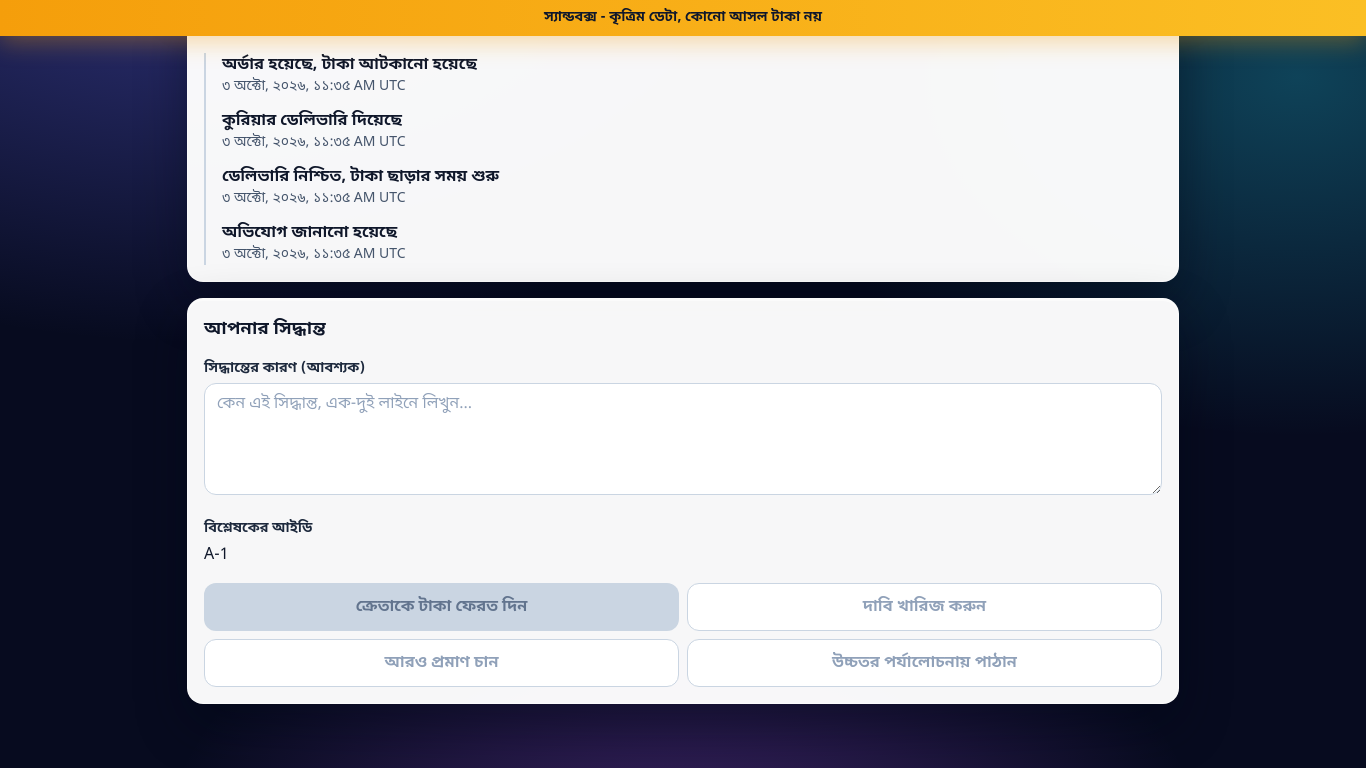
Test case: decisions and the score update › can be cancelled at the confirmation step without changing anything
The image size is (1366, 768).
(page scrolled)
Type "ঠিক আছে" into the text box labelled "সিদ্ধান্তের কারণ (আবশ্যক)".
click(683, 439); type("ঠিক আছে")  # box [204,383,1162,495]
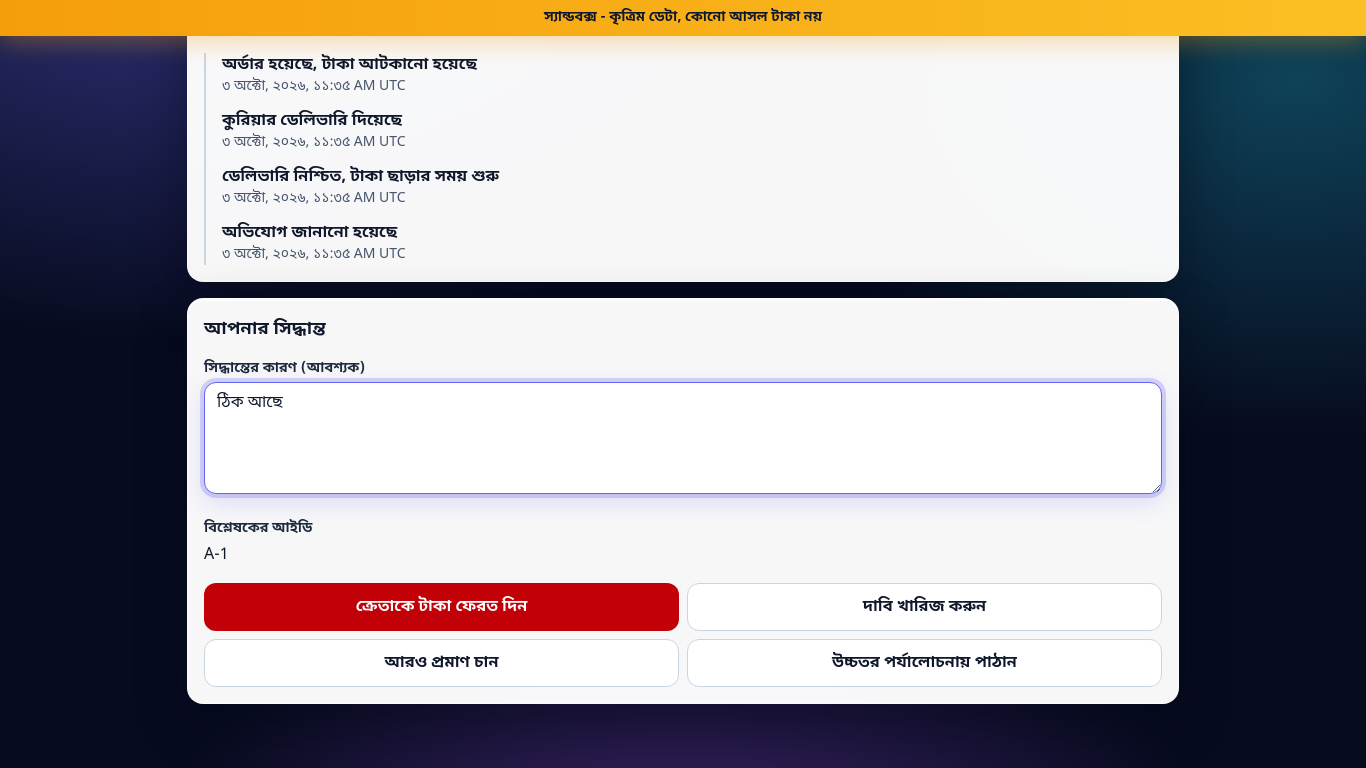
Click the button "ক্রেতাকে টাকা ফেরত দিন".
click(442, 607)  # box [204,583,679,631]
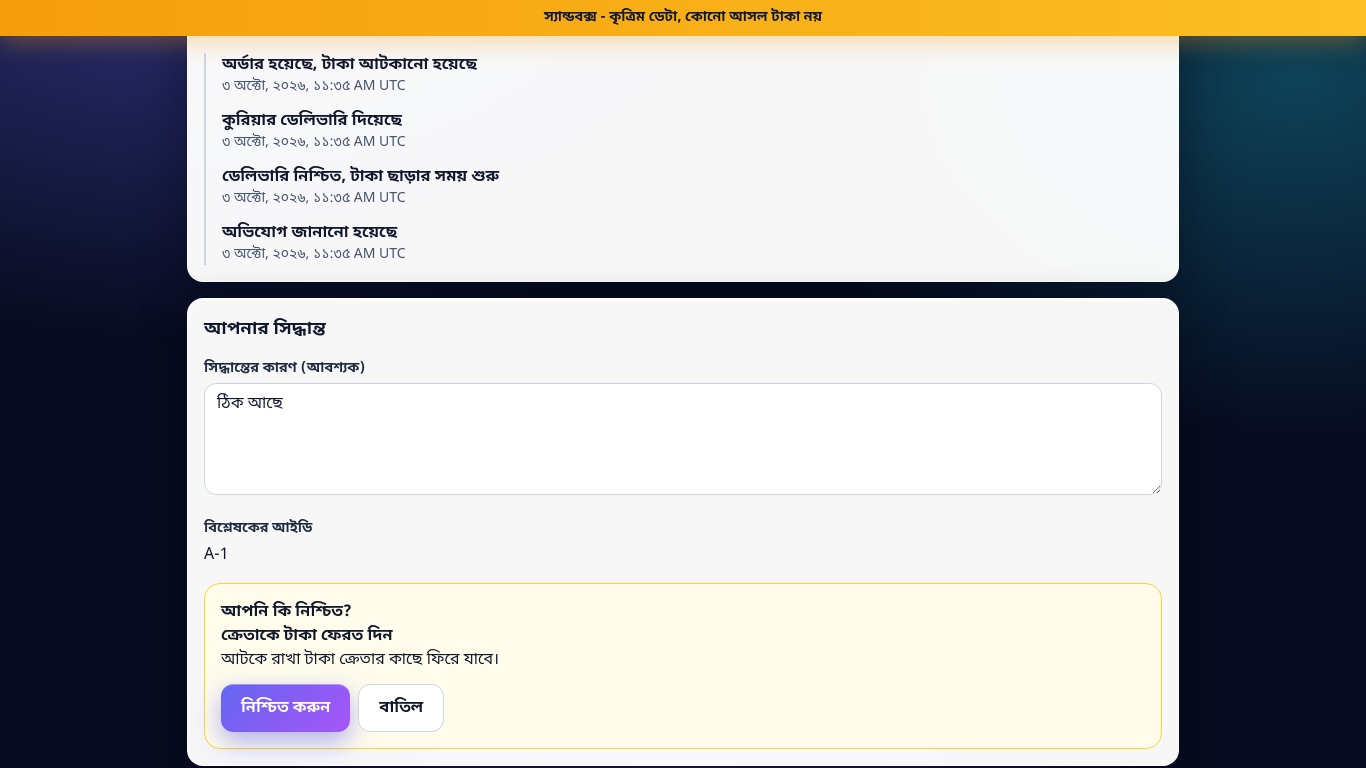
Click the button "বাতিল".
click(401, 708)  # box [358,684,444,732]
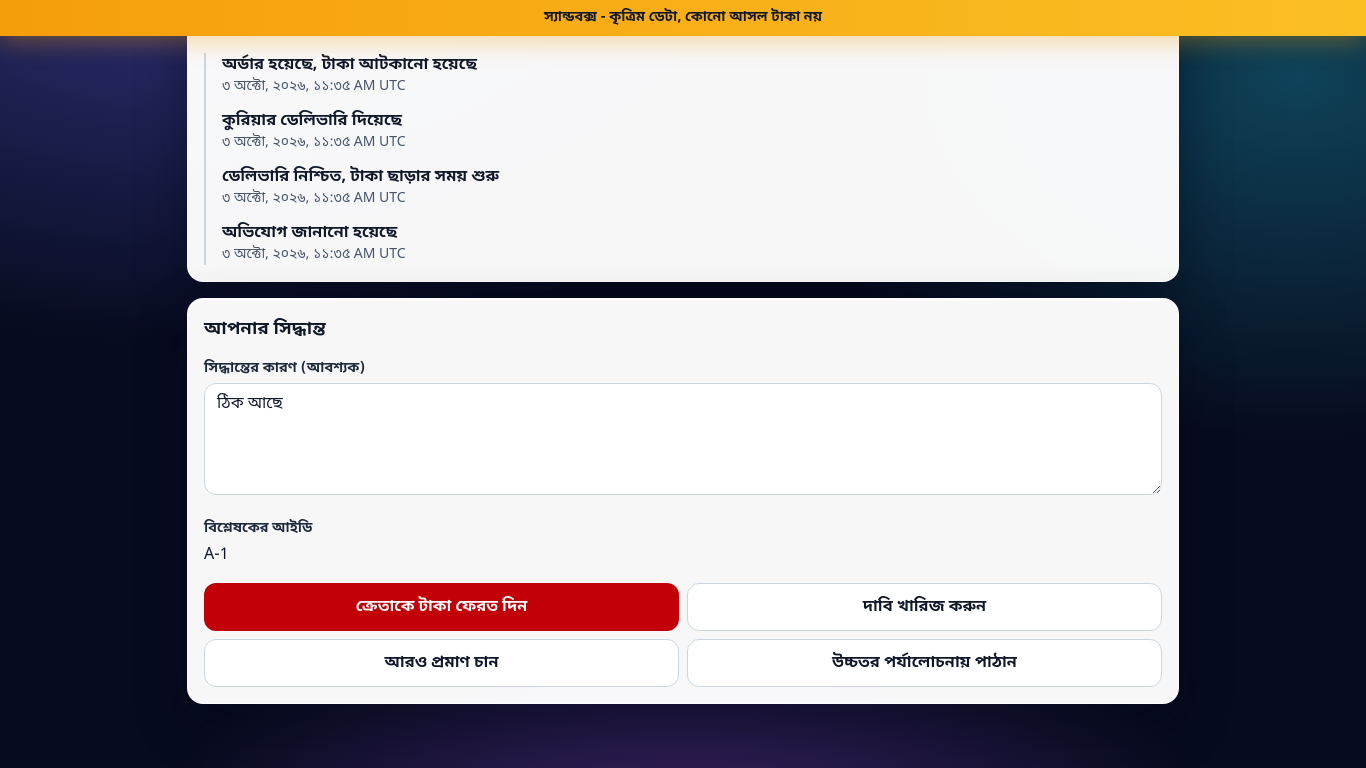
Result: the dialog is gone
